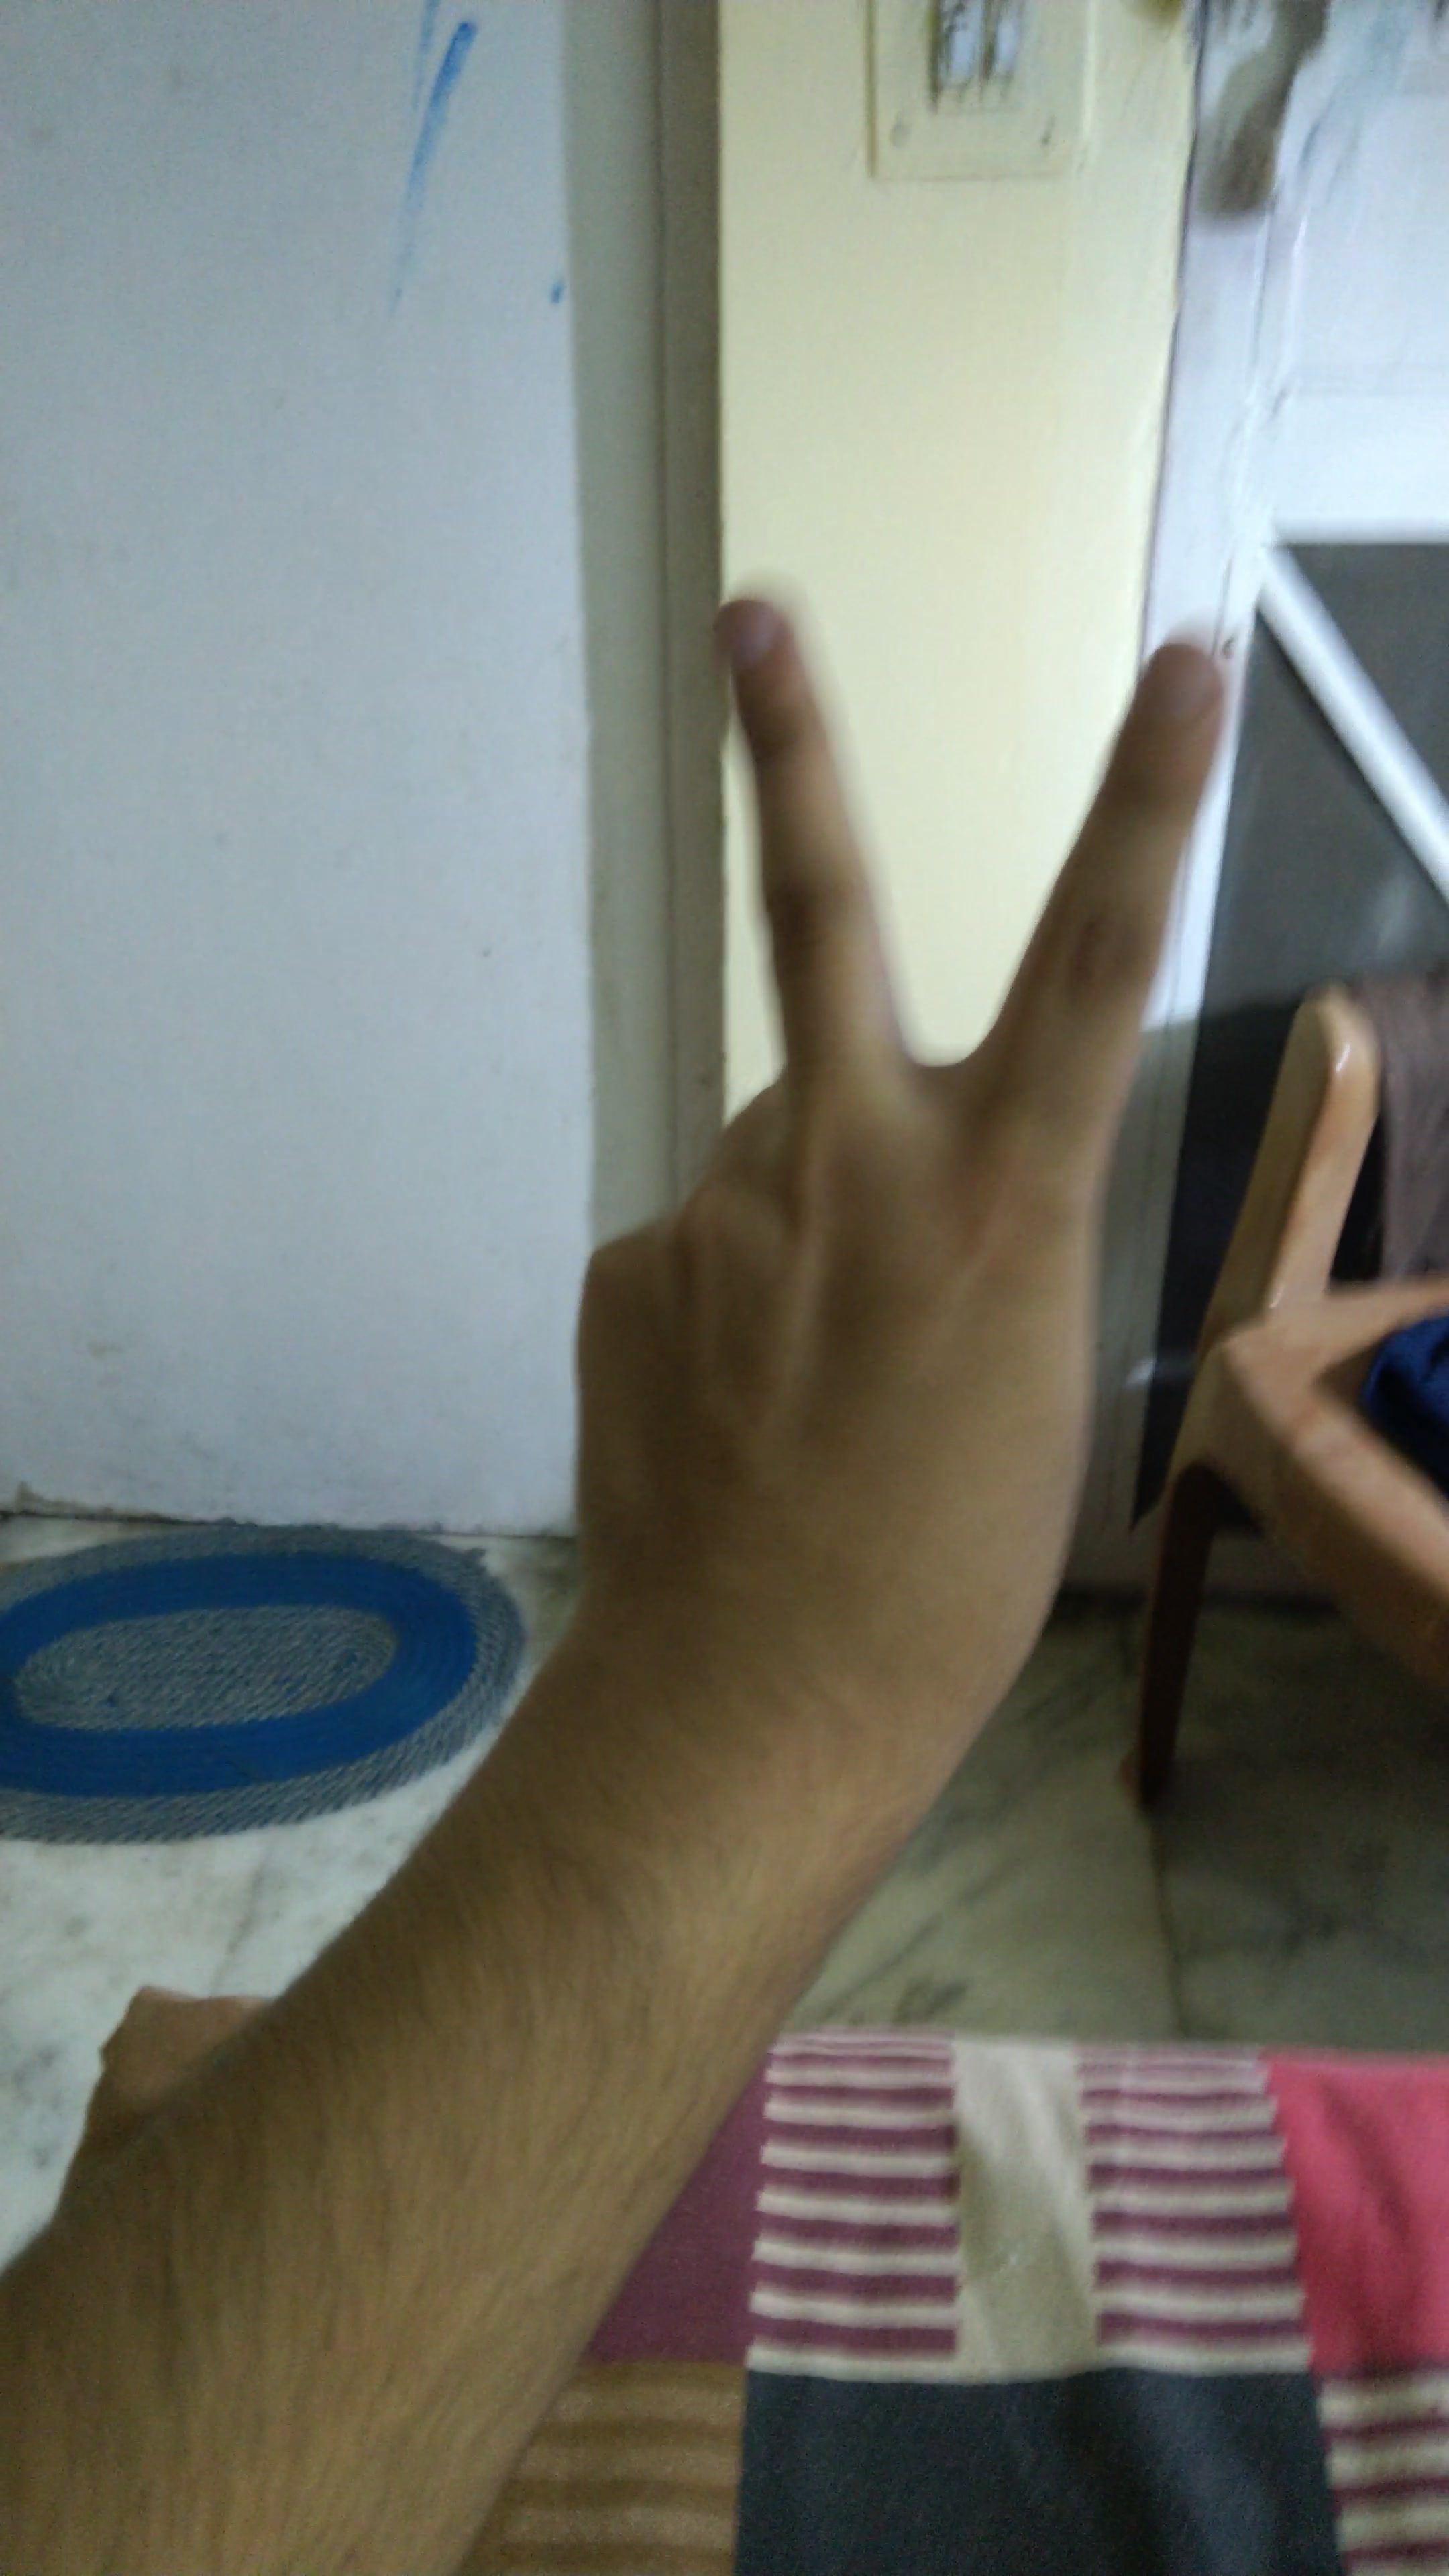hand: (396, 525, 1261, 1900)
